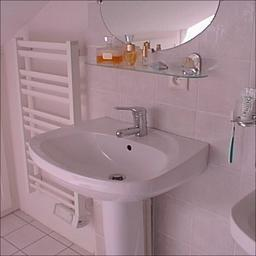Lavamanos: (24, 99, 212, 246)
